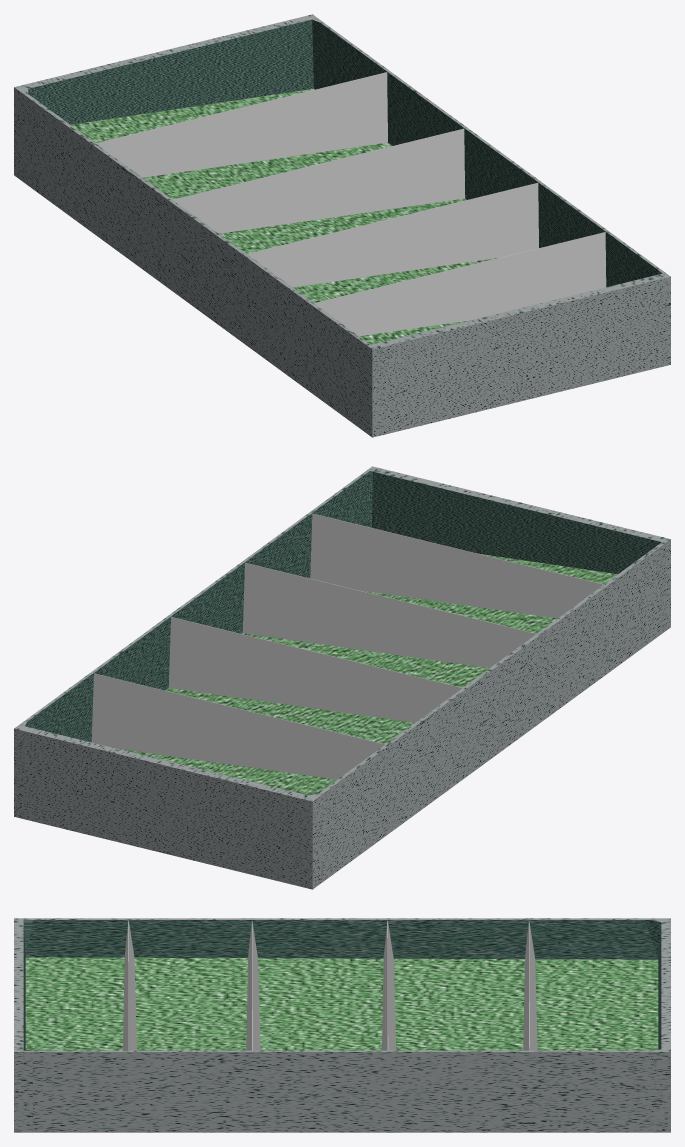
File: estuche_fichas.fbx
The picture shows the model from 3 angles, top to bottom: view 1: azimuth 30°, elevation 25°; view 2: azimuth 150°, elevation 25°; view 3: azimuth 270°, elevation 25°; orthographic projection. The views are drawn at different scales.
Visible parts, largest first — view 1: Cube, Cube.004, Cube.001, Cube.003, Cube.002; view 2: Cube, Cube.004, Cube.001, Cube.003, Cube.002; view 3: Cube, Cube.004, Cube.003, Cube.001, Cube.002.
Part boxes in pixels (x1=…): Cube: x1=14, y1=14, x2=670, y2=437; Cube.004: x1=96, y1=72, x2=387, y2=177; Cube.001: x1=173, y1=128, x2=465, y2=233; Cube.003: x1=247, y1=183, x2=538, y2=287; Cube.002: x1=314, y1=232, x2=606, y2=336; Cube: x1=14, y1=466, x2=670, y2=889; Cube.004: x1=91, y1=673, x2=385, y2=779; Cube.001: x1=168, y1=617, x2=462, y2=722; Cube.003: x1=242, y1=563, x2=536, y2=667; Cube.002: x1=310, y1=513, x2=603, y2=618; Cube: x1=14, y1=918, x2=670, y2=1132; Cube.004: x1=523, y1=921, x2=537, y2=1050; Cube.003: x1=246, y1=921, x2=260, y2=1050; Cube.001: x1=382, y1=920, x2=396, y2=1050; Cube.002: x1=123, y1=920, x2=136, y2=1050.
Size of the model in its own units: 472 by 133 by 980.
